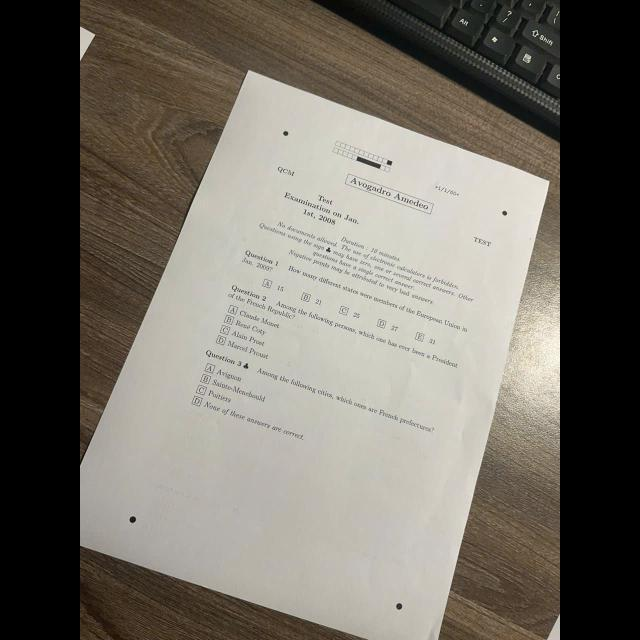Markers: (128, 515, 136, 523), (396, 602, 402, 610), (282, 130, 288, 136), (501, 210, 507, 216)
